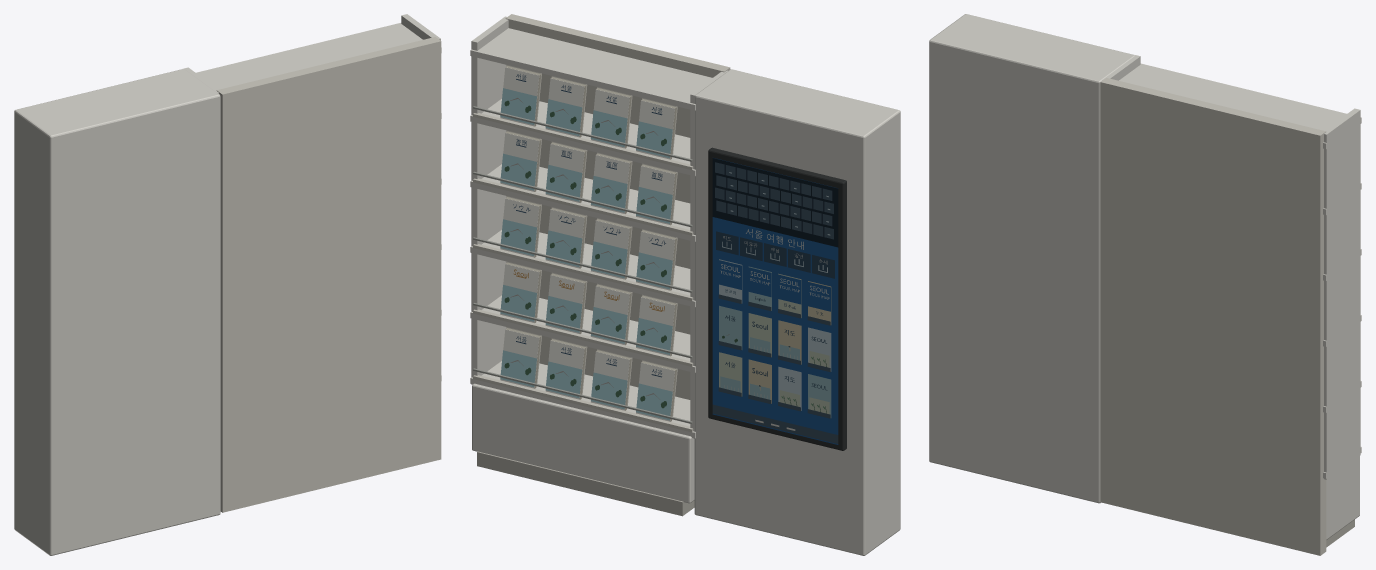
File: reader.glb
The picture shows the model from 3 angles, left to right: view 1: azimuth 30°, elevation 25°; view 2: azimuth 150°, elevation 25°; view 3: azimuth 330°, elevation 25°; orthographic projection.
Visible parts, largest first — view 1: SebitInformation_reader; view 2: SebitInformation_reader; view 3: SebitInformation_reader.
Part boxes in pixels (x1=…): SebitInformation_reader: x1=14, y1=14, x2=441, y2=555; SebitInformation_reader: x1=470, y1=14, x2=900, y2=555; SebitInformation_reader: x1=929, y1=14, x2=1361, y2=555.
Size of the model in its own units: 2.37 by 2.43 by 0.4369.
